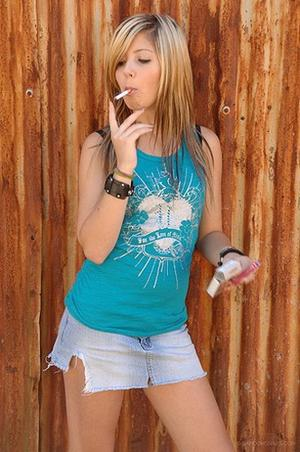person: (47, 13, 259, 452)
